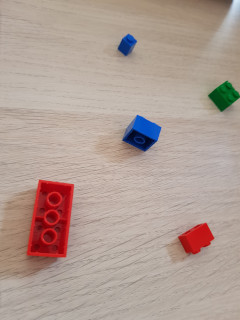1x1 blue: (115, 33, 138, 55)
1x2 red: (177, 221, 216, 256)
2x2 blue: (124, 115, 161, 152)
2x2 green: (207, 80, 240, 112)
2x4 red: (29, 180, 75, 261)
